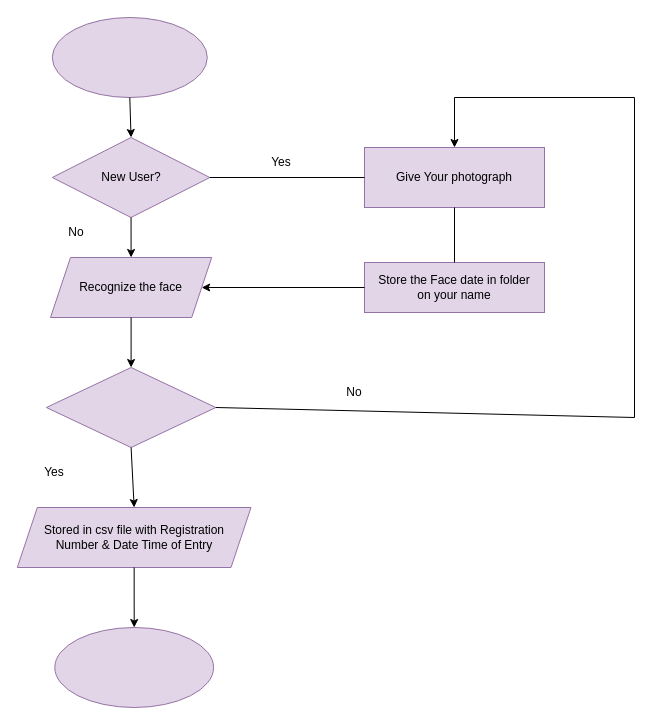
Some shapes in this 661 by 725 pixel diagram are drawn without their labels. Here are the shapes that lost their labels. From the top down, the centre of each, then its label:
At pixel 129 57: "Start".
At pixel 130 407: "Face Recognize".
At pixel 134 667: "End".
